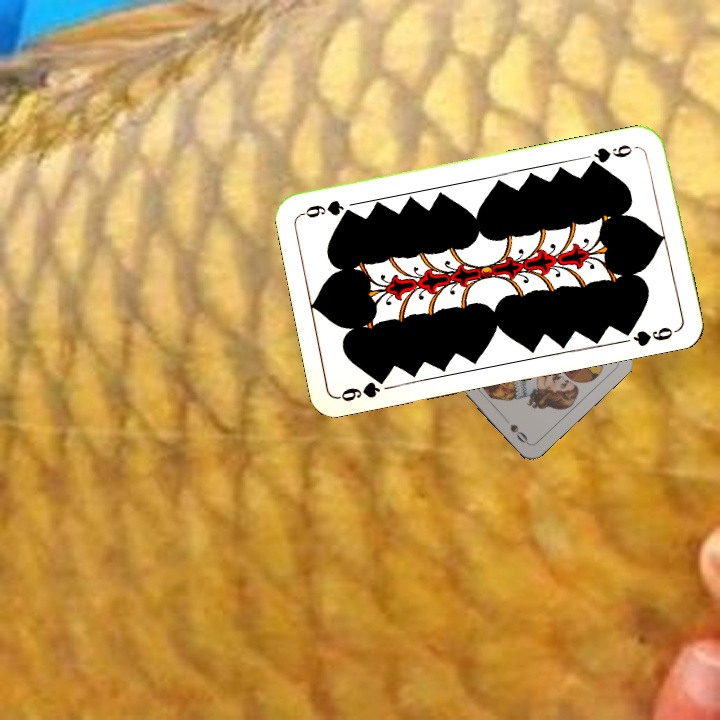G9: (335, 371, 391, 404), (585, 140, 642, 169)
